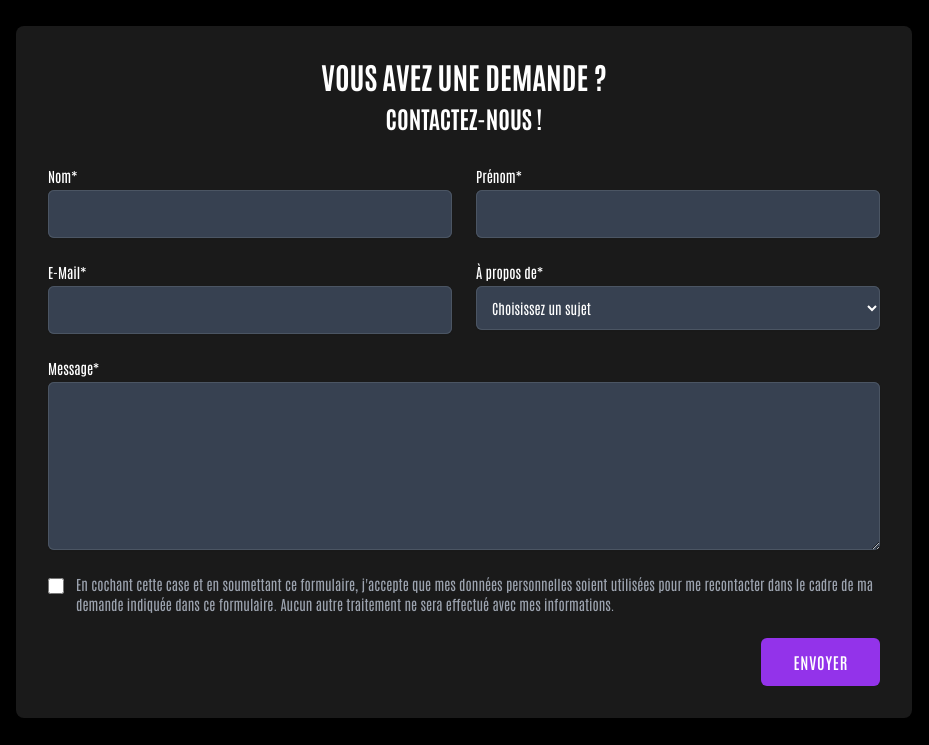
ContactView — form validation › shows an about error when no subject is selected
Type "Dupont" into the field with id "lastName" at (250, 214), box [48, 190, 452, 238]
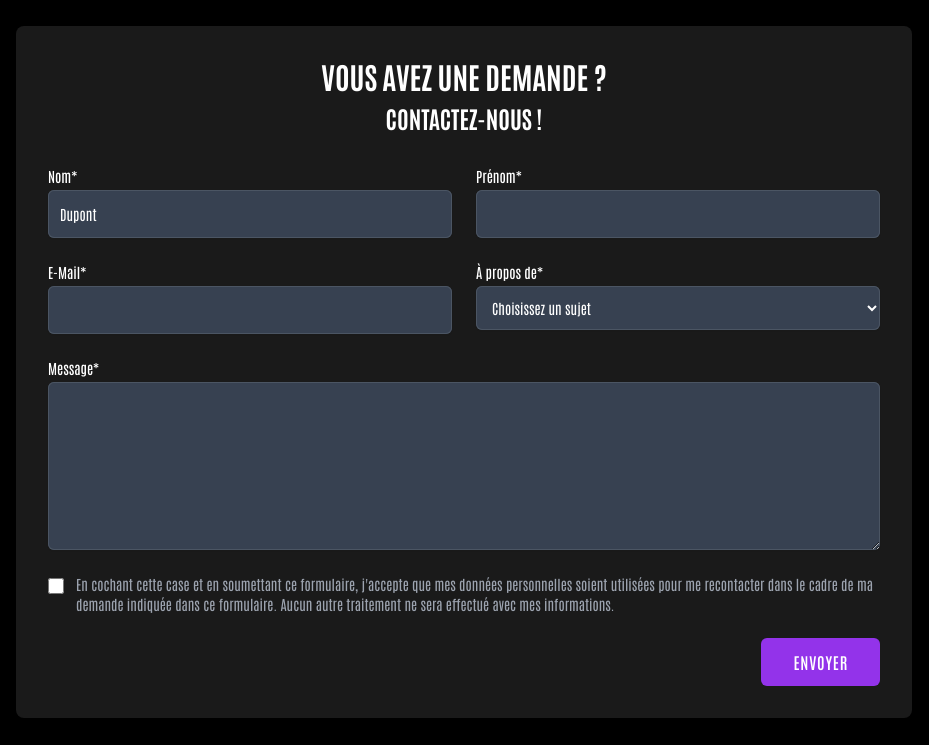
Type "Marie" into the field with id "firstName" at (678, 214), box [476, 190, 880, 238]
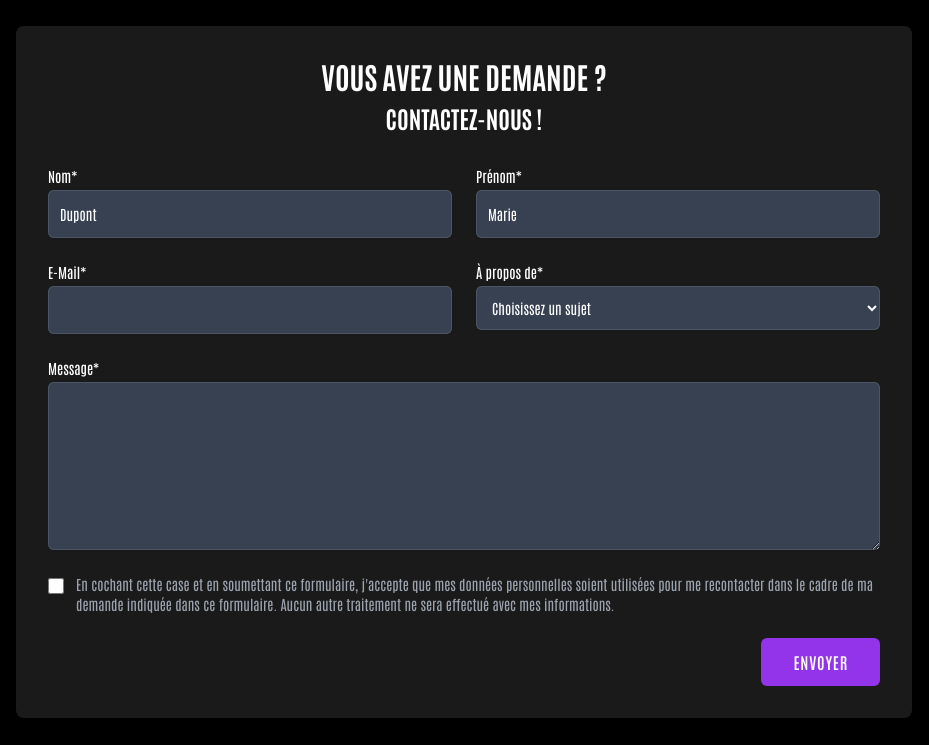
Type "marie@example.com" into the field with id "email" at (250, 310), box [48, 286, 452, 334]
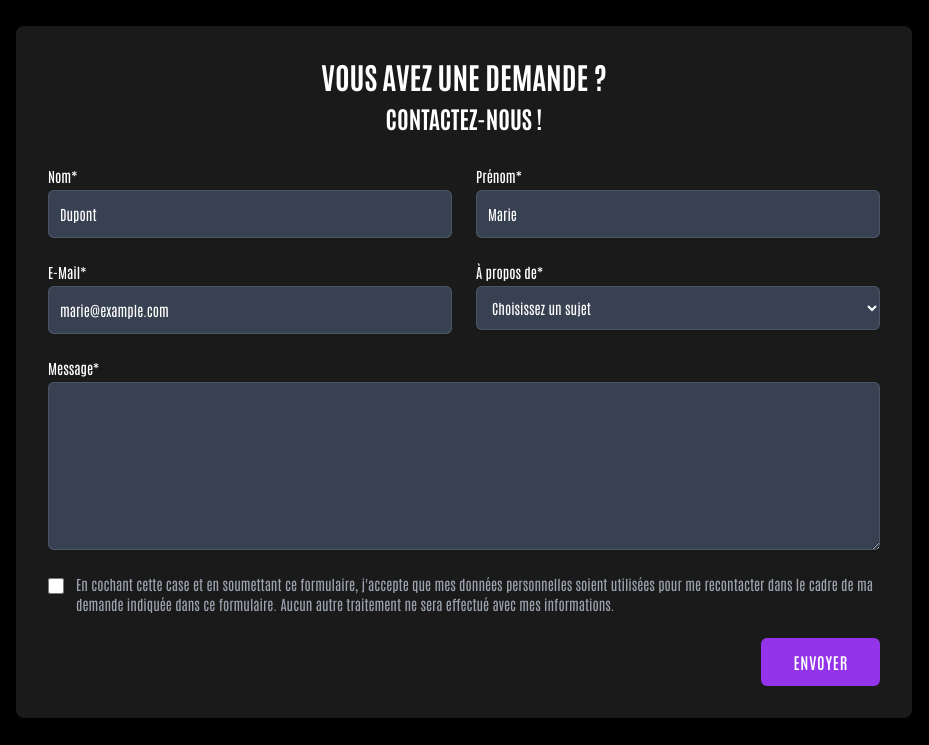
Select "Choisissez un sujet" in the dropdown with id "about" at (678, 308), box [476, 286, 880, 330]
Type "Bonjour" into the text box with id "message" at (464, 466), box [48, 382, 880, 550]
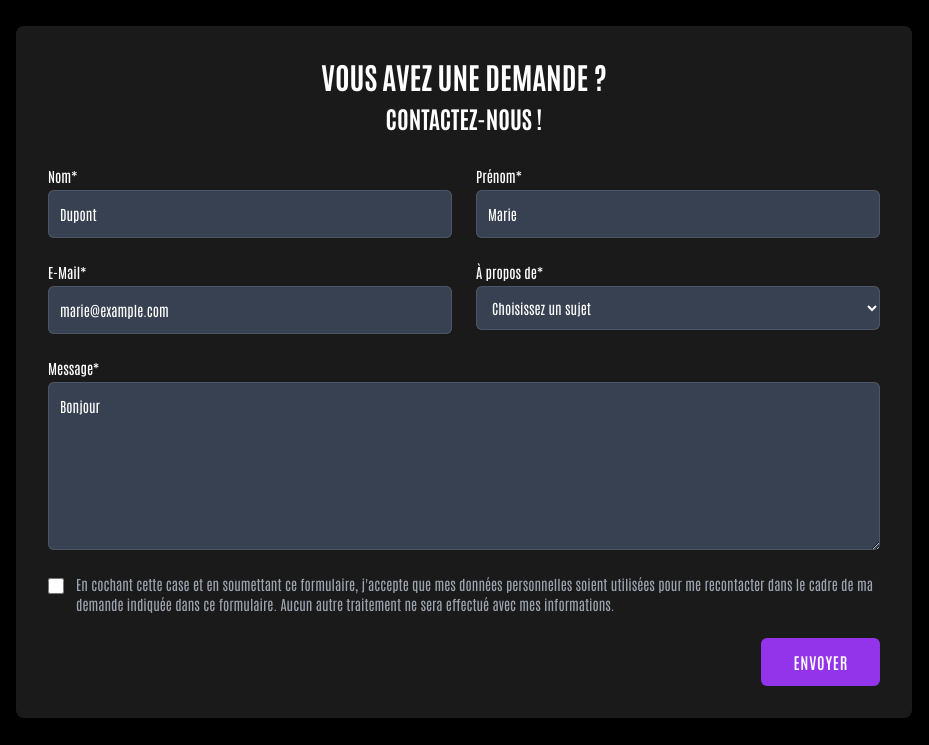
Click the checkbox with id "consent" at (56, 586), box [48, 578, 64, 594]
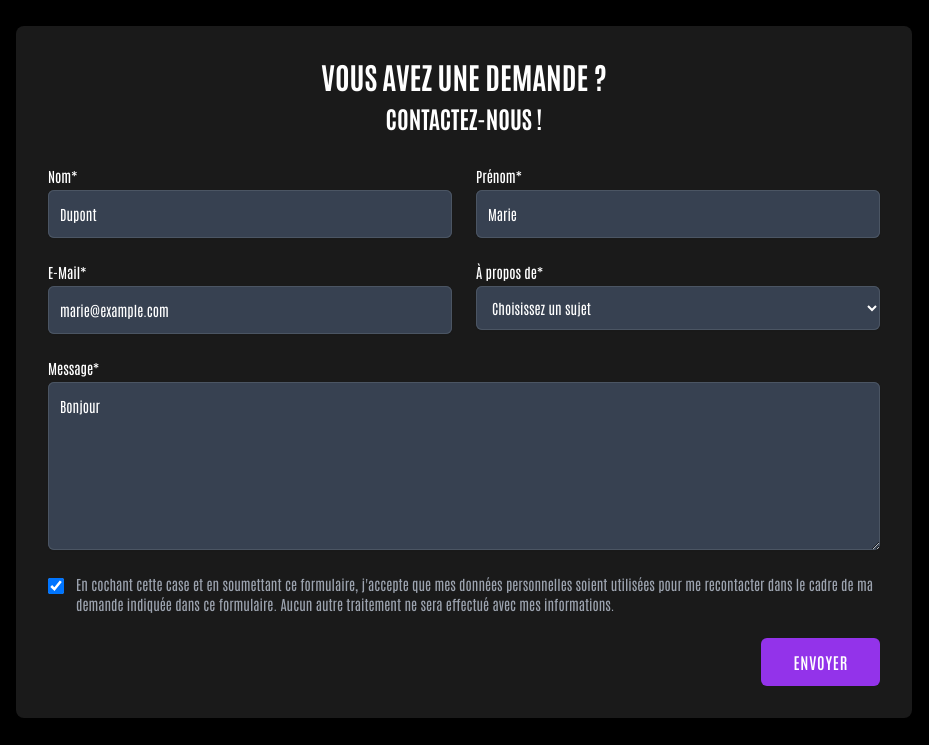
Submit the form
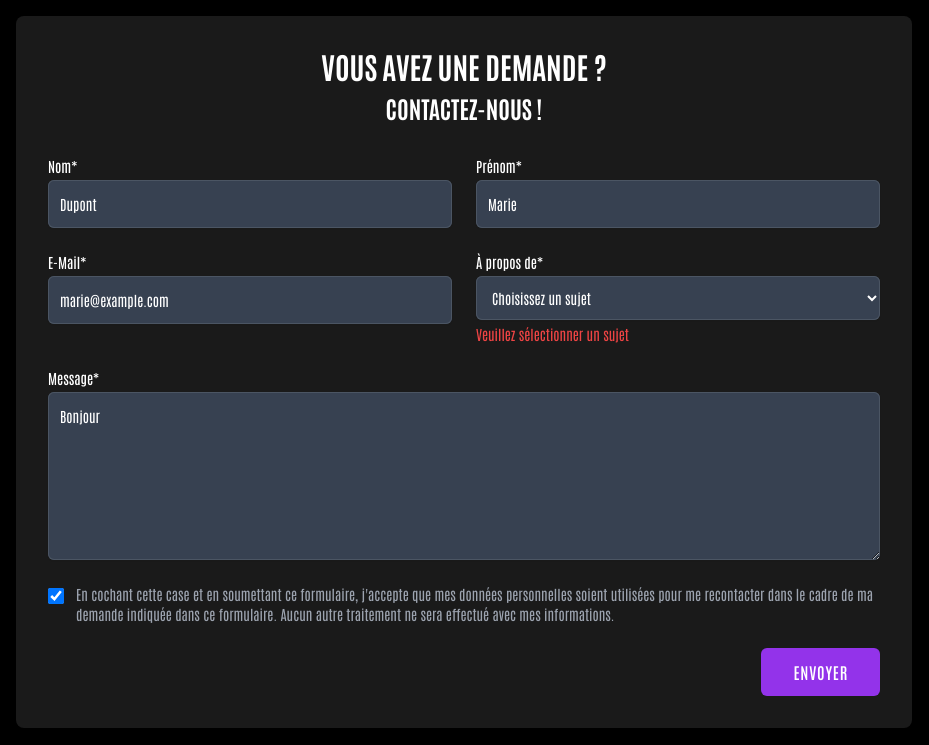
Check: the text "Veuillez sélectionner un sujet" is shown, box [476, 325, 629, 343]
